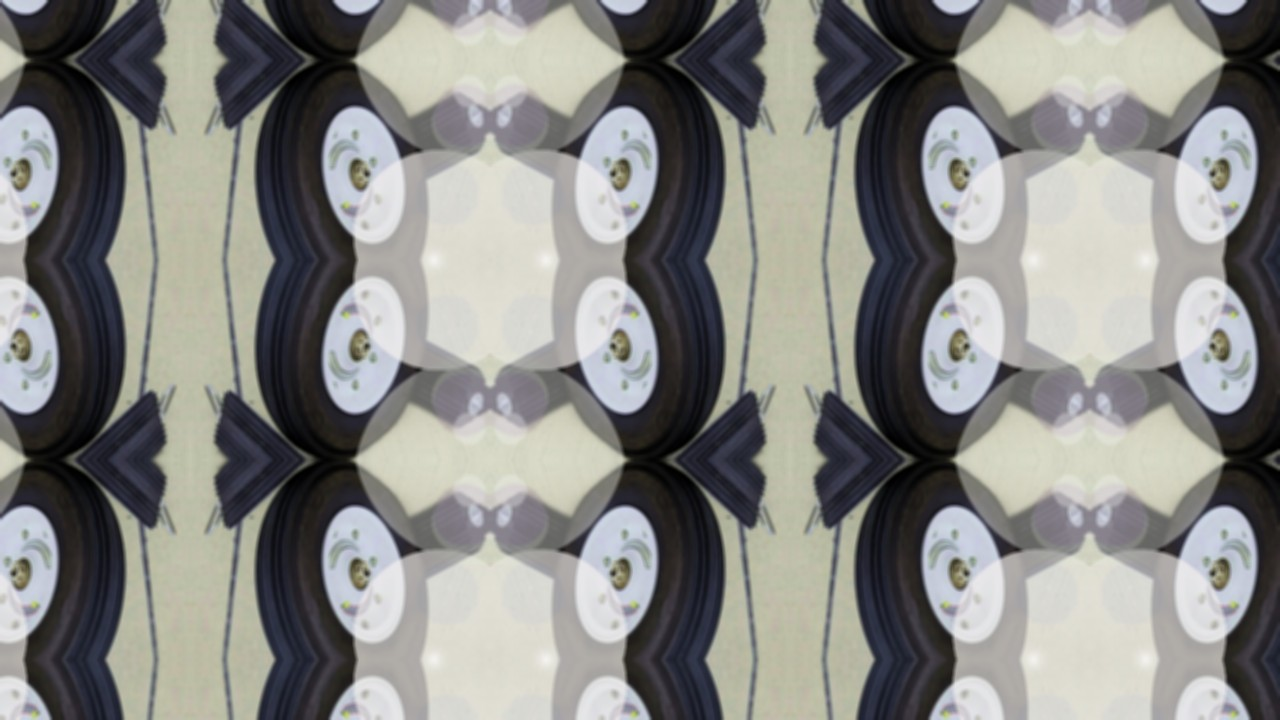chock: (35, 60, 189, 144), (191, 60, 345, 144), (635, 60, 789, 144), (791, 60, 945, 144), (35, 376, 189, 460), (191, 376, 345, 460), (635, 376, 789, 460), (791, 376, 945, 460), (35, 460, 189, 544), (191, 460, 345, 544), (635, 460, 789, 544), (791, 460, 945, 544), (388, 83, 490, 200), (490, 83, 592, 200), (988, 83, 1090, 200), (1090, 83, 1192, 200), (388, 320, 490, 437), (490, 320, 592, 437), (988, 320, 1090, 437), (1090, 320, 1192, 437), (388, 483, 490, 600), (490, 483, 592, 600), (988, 483, 1090, 600), (1090, 483, 1192, 600), (35, 0, 189, 60), (191, 0, 345, 60), (635, 0, 789, 60), (791, 0, 945, 60), (1235, 60, 1280, 144), (1235, 376, 1280, 460), (1235, 460, 1280, 544), (388, 0, 490, 37), (490, 0, 592, 37), (988, 0, 1090, 37), (1090, 0, 1192, 37), (1235, 0, 1280, 60)
wheel: (244, 60, 448, 260), (532, 60, 736, 260), (844, 60, 1048, 260), (244, 260, 448, 460), (532, 260, 736, 460), (844, 260, 1048, 460), (244, 460, 448, 660), (532, 460, 736, 660), (844, 460, 1048, 660), (1132, 60, 1280, 260), (1132, 260, 1280, 460), (1132, 460, 1280, 660), (0, 60, 136, 260), (0, 260, 136, 460), (0, 460, 136, 660), (244, 0, 448, 60), (532, 0, 736, 60), (844, 0, 1048, 60), (244, 660, 448, 720), (532, 660, 736, 720), (844, 660, 1048, 720), (1132, 0, 1280, 60), (1132, 660, 1280, 720), (0, 0, 136, 60), (0, 660, 136, 720)
